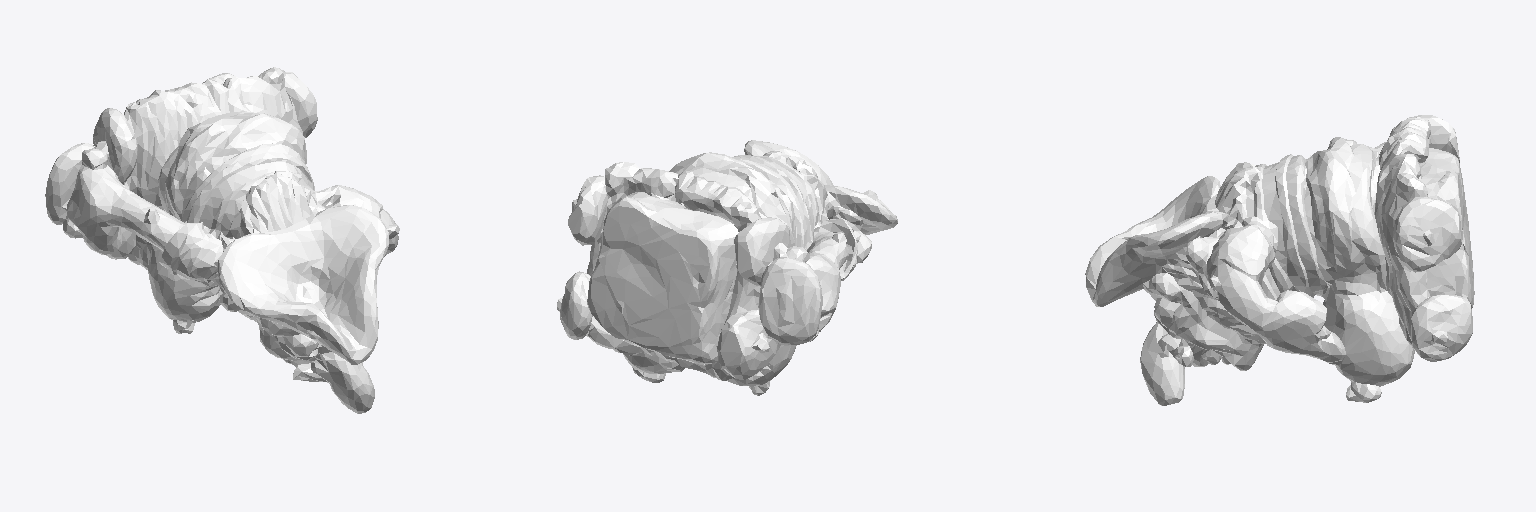
File: nolegs.obj
3 views of the same model, side by side, from view 1: azimuth 30°, elevation 25°; view 2: azimuth 150°, elevation 25°; view 3: azimuth 270°, elevation 25° (orthographic).
Size of the model in its own units: 4.06 by 3.72 by 5.22.